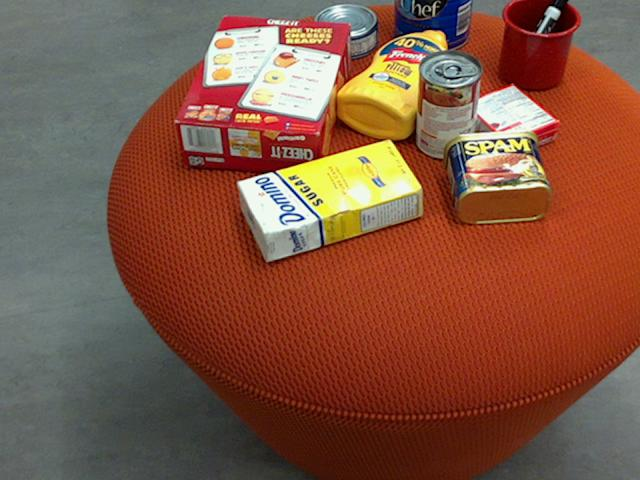cracker_box: (171, 15, 351, 175)
gelatin_box: (463, 85, 560, 158)
large_marker: (509, 0, 566, 78)
master_chef_can: (393, 0, 473, 50)
mug: (499, 0, 581, 88)
mustard_bottle: (335, 29, 451, 139)
potted_meat_can: (441, 128, 550, 223)
sugar_box: (235, 138, 423, 262)
tomato_soup_can: (416, 48, 480, 158)
tuna_fish_can: (312, 3, 377, 56)
